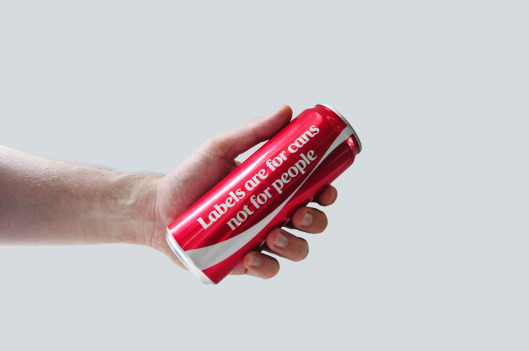can: (162, 99, 369, 289)
